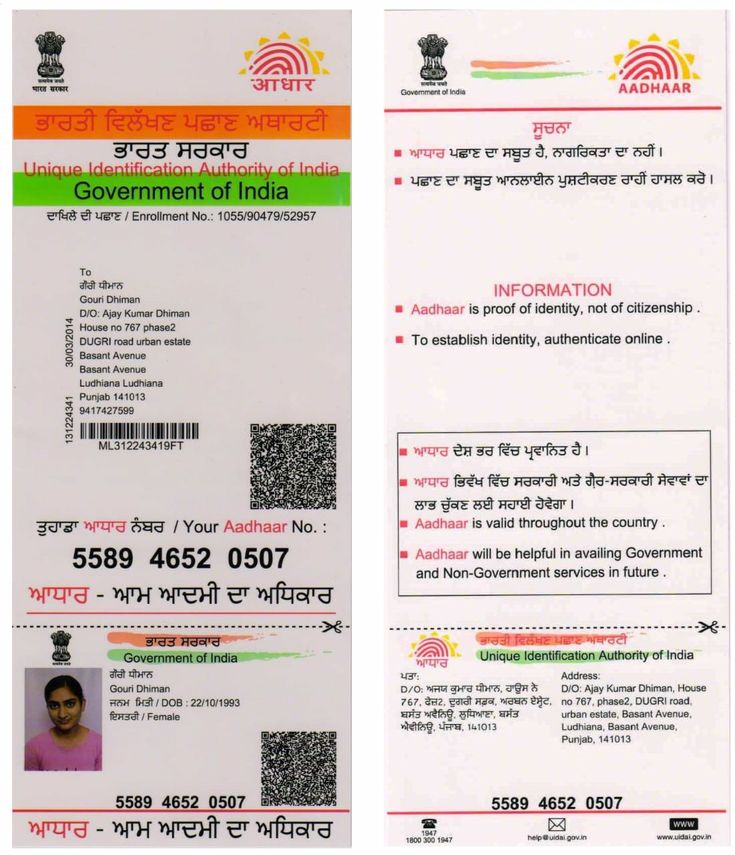aadhaar: (360, 3, 727, 850), (1, 4, 354, 849)
